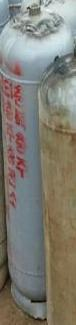cylinder: (1, 1, 76, 325)
